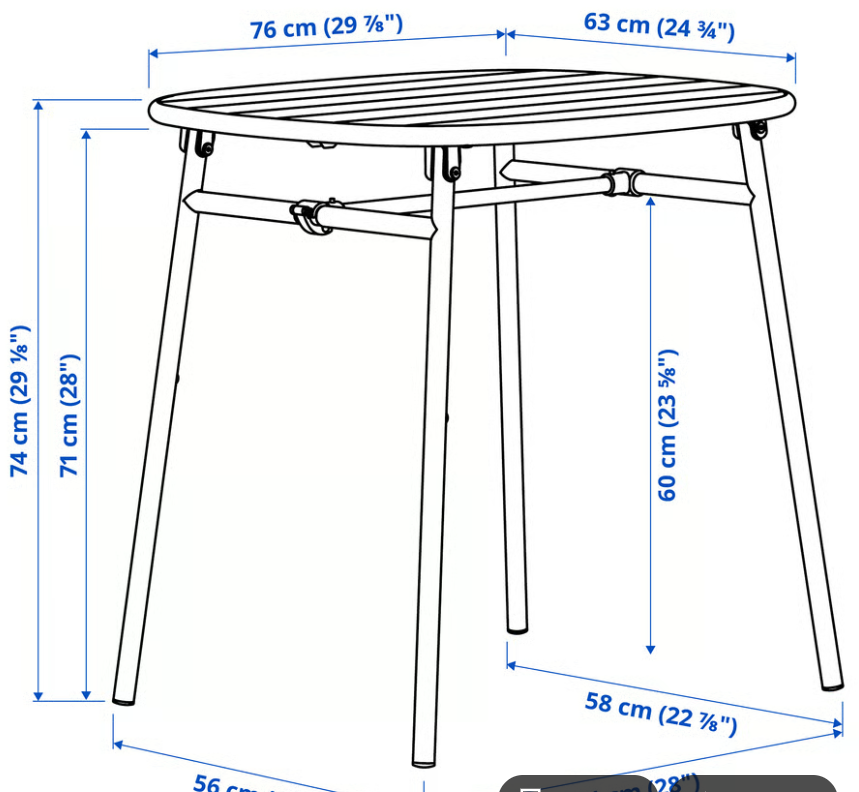table_legs: (109, 115, 848, 770)
table_top: (143, 64, 801, 151)
